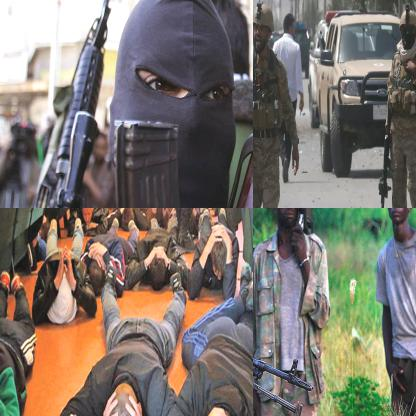rifle: (112, 0, 252, 207), (9, 0, 124, 207), (253, 284, 316, 415), (377, 110, 395, 207), (291, 208, 318, 239)
